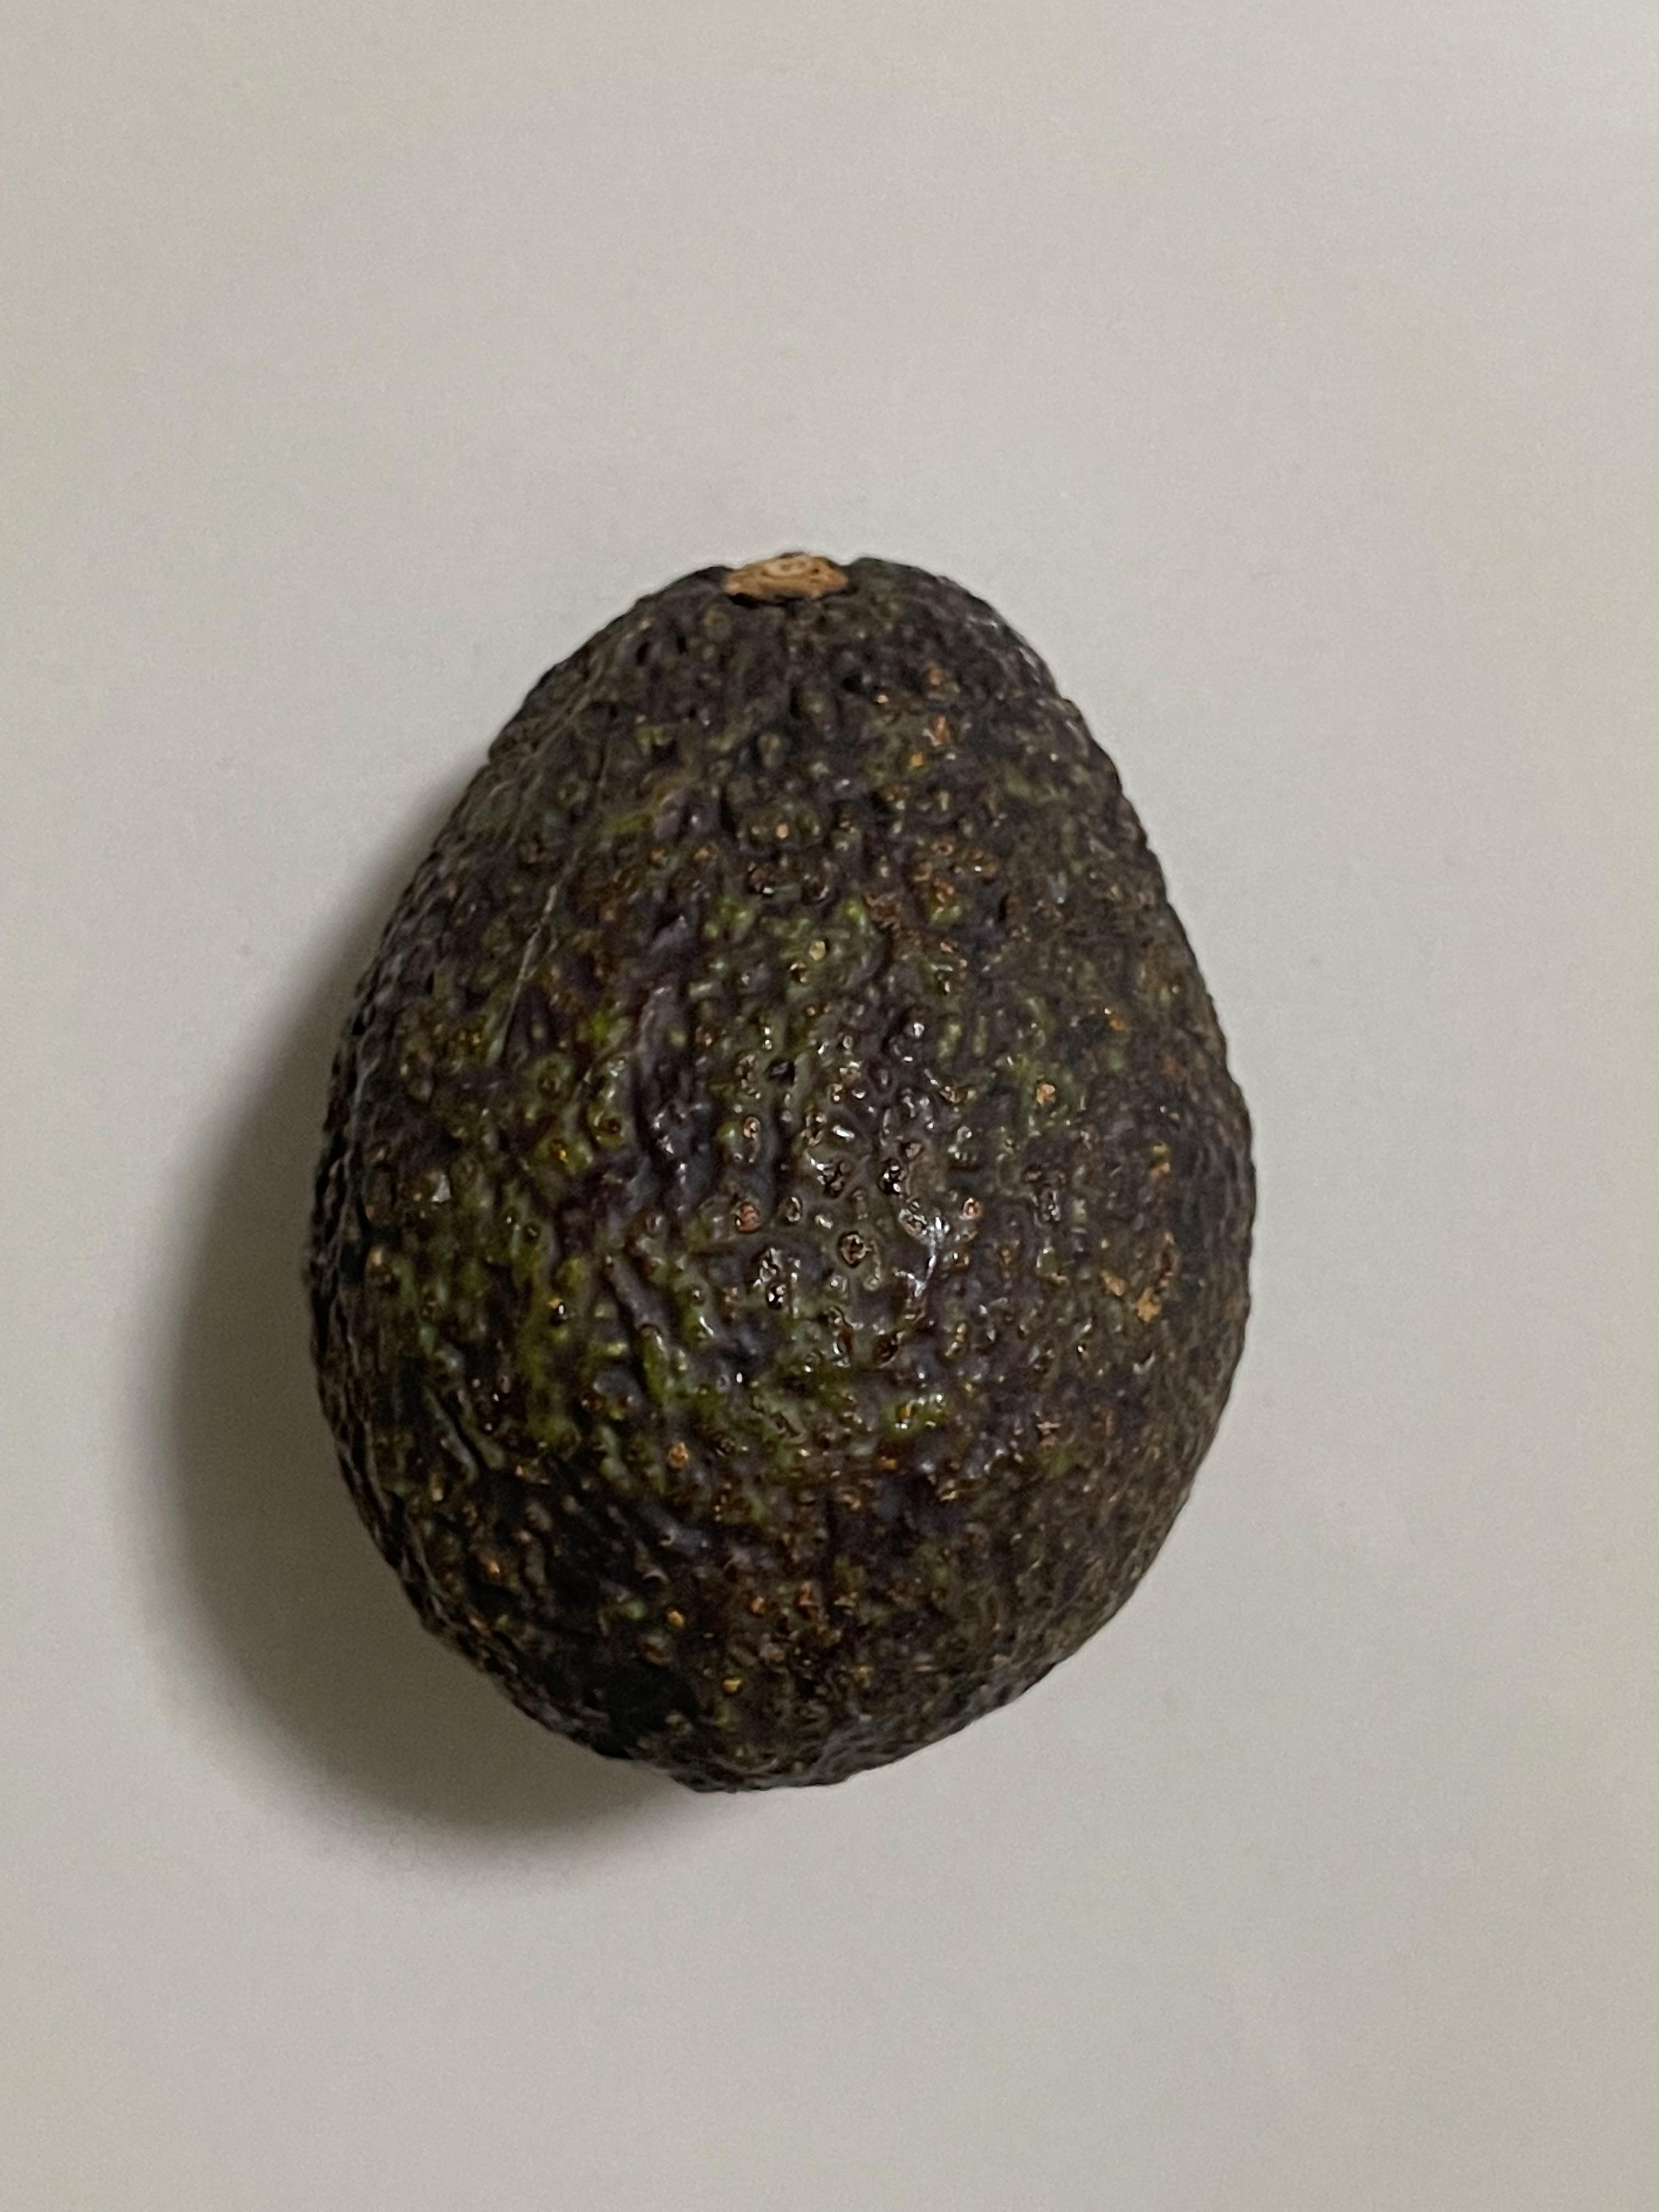Level2: (296, 533, 1269, 1815)
